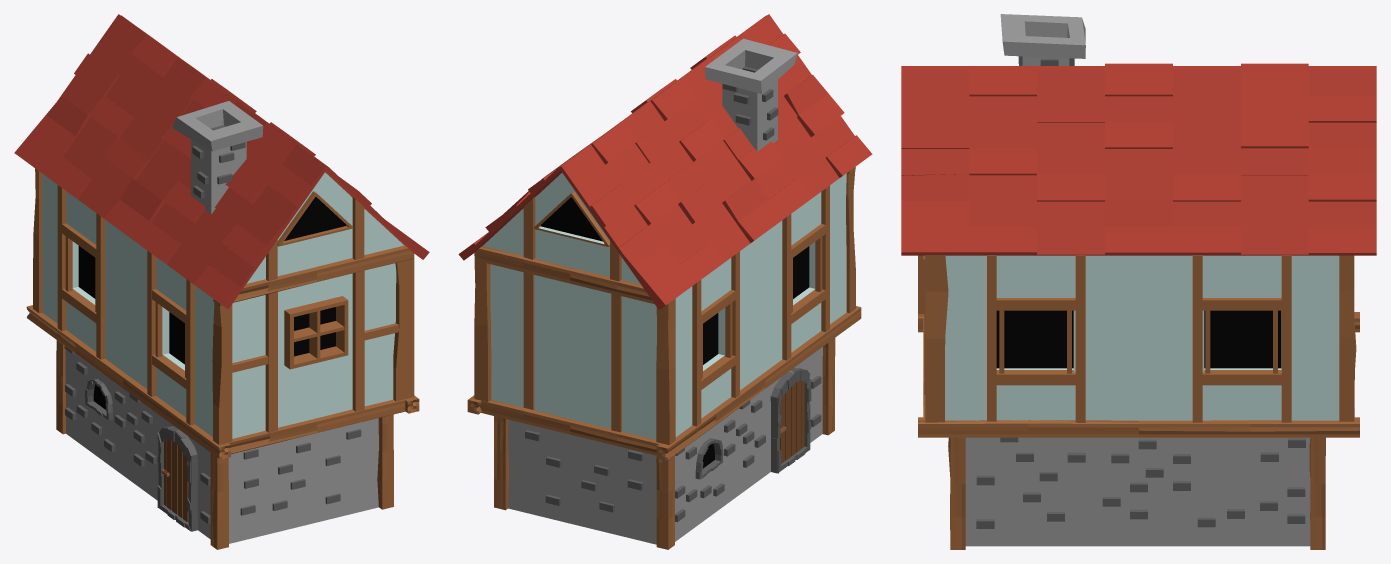
File: house medieval2.glb
The picture shows the model from 3 angles, left to right: view 1: azimuth 30°, elevation 25°; view 2: azimuth 150°, elevation 25°; view 3: azimuth 270°, elevation 25°; orthographic projection. The views are drawn at different scales.
Visible parts, largest first — view 1: TopFloor-col, Roof-col, Karkas-col, LowerFloor-col, Chimney-col, Bricks, Door-col; view 2: TopFloor-col, Roof-col, Karkas-col, LowerFloor-col, Chimney-col, Bricks, Door-col; view 3: Roof-col, TopFloor-col, LowerFloor-col, Karkas-col, Bricks, Chimney-col.
Part boxes in pixels (bbox=[...]): TopFloor-col: bbox=[42, 172, 404, 438]; Roof-col: bbox=[14, 14, 429, 309]; Karkas-col: bbox=[26, 168, 419, 549]; LowerFloor-col: bbox=[65, 349, 378, 543]; Chimney-col: bbox=[172, 101, 263, 213]; Bricks: bbox=[64, 125, 361, 524]; Door-col: bbox=[164, 439, 188, 522]; TopFloor-col: bbox=[483, 173, 846, 439]; Roof-col: bbox=[458, 14, 872, 309]; Karkas-col: bbox=[467, 167, 861, 549]; LowerFloor-col: bbox=[508, 347, 822, 544]; Chimney-col: bbox=[705, 38, 797, 151]; Bricks: bbox=[525, 66, 821, 522]; Door-col: bbox=[780, 381, 804, 463]; Roof-col: bbox=[901, 63, 1376, 255]; TopFloor-col: bbox=[918, 255, 1339, 420]; LowerFloor-col: bbox=[965, 437, 1310, 546]; Karkas-col: bbox=[918, 255, 1359, 549]; Bricks: bbox=[976, 56, 1305, 528]; Chimney-col: bbox=[1000, 14, 1085, 65].
Bounding box in the file's own units: 7.62 × 13.67 × 13.14.
